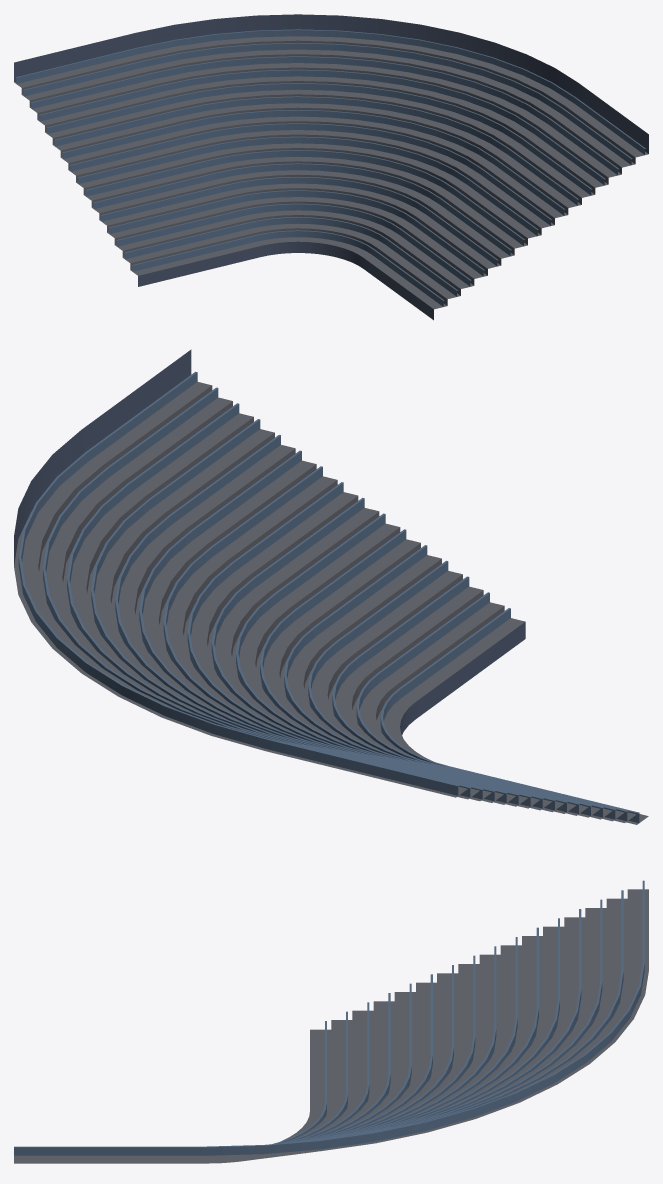
File: SM_BowlLow0.glb
3 views of the same model, one above another, from view 1: azimuth 30°, elevation 25°; view 2: azimuth 150°, elevation 25°; view 3: azimuth 270°, elevation 25° (orthographic). The views are drawn at different scales.
Visible parts, largest first — view 1: SM_BowlLow0; view 2: SM_BowlLow0; view 3: SM_BowlLow0.
Boxes of the visible parts, box(x1,y1,x2,y2) form: SM_BowlLow0: box(14, 14, 648, 320); SM_BowlLow0: box(14, 349, 648, 824); SM_BowlLow0: box(14, 880, 648, 1163).
Size of the model in its own units: 23.38 by 7.42 by 23.38.
